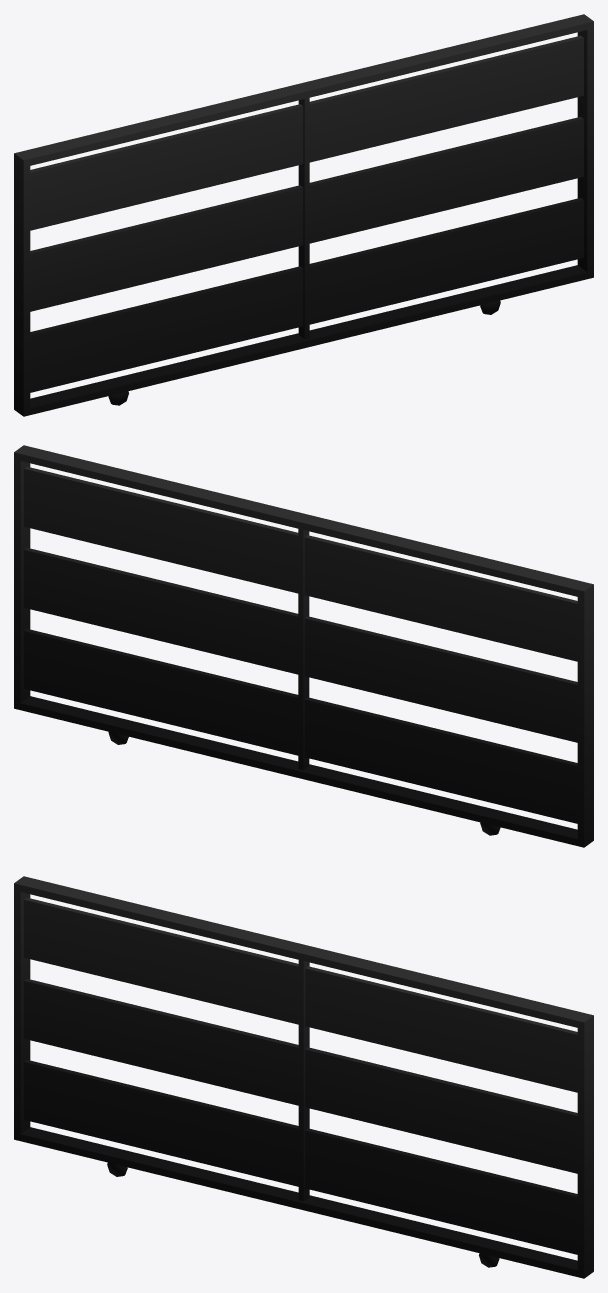
Rendered from Gate1.fbx.
The picture shows the model from 3 angles, top to bottom: view 1: azimuth 30°, elevation 25°; view 2: azimuth 150°, elevation 25°; view 3: azimuth 330°, elevation 25°; orthographic projection.
Parts seen in each view (by area): view 1: Gate1_LOD0; view 2: Gate1_LOD0; view 3: Gate1_LOD0.
Part boxes in pixels (left/top/right/bottom): Gate1_LOD0: left=14, top=14, right=593, bottom=416; Gate1_LOD0: left=14, top=445, right=593, bottom=847; Gate1_LOD0: left=14, top=876, right=593, bottom=1278.
Size of what is drawn, in the model's own units: 334 by 152 by 9.89.
